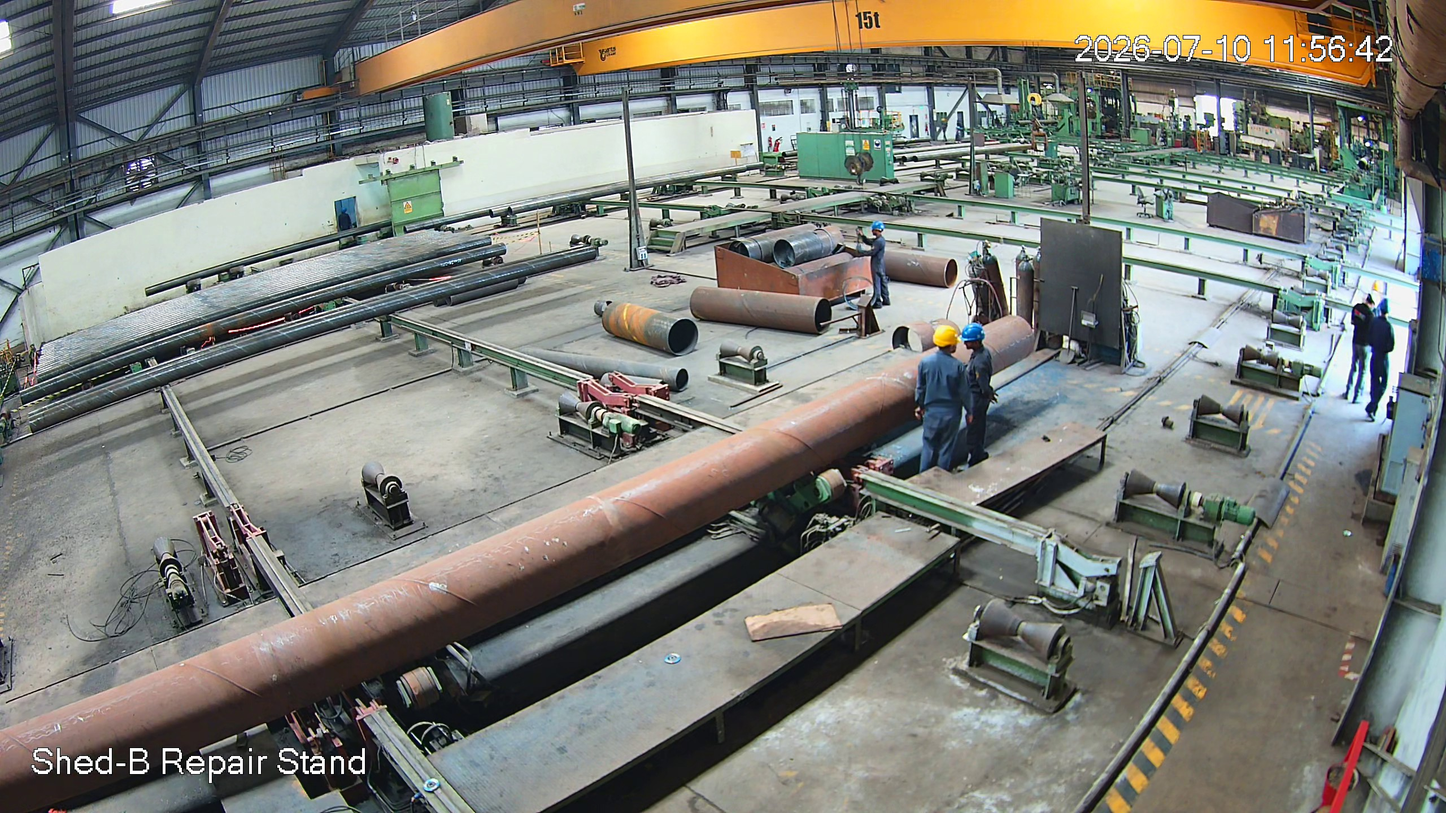Helmet: (931, 322, 962, 359), (960, 321, 988, 352), (1363, 288, 1384, 315), (869, 217, 887, 241), (1378, 298, 1395, 320)
Person: (958, 323, 1003, 463), (916, 325, 956, 479), (1364, 299, 1398, 423), (1345, 289, 1378, 409), (866, 220, 893, 321)
